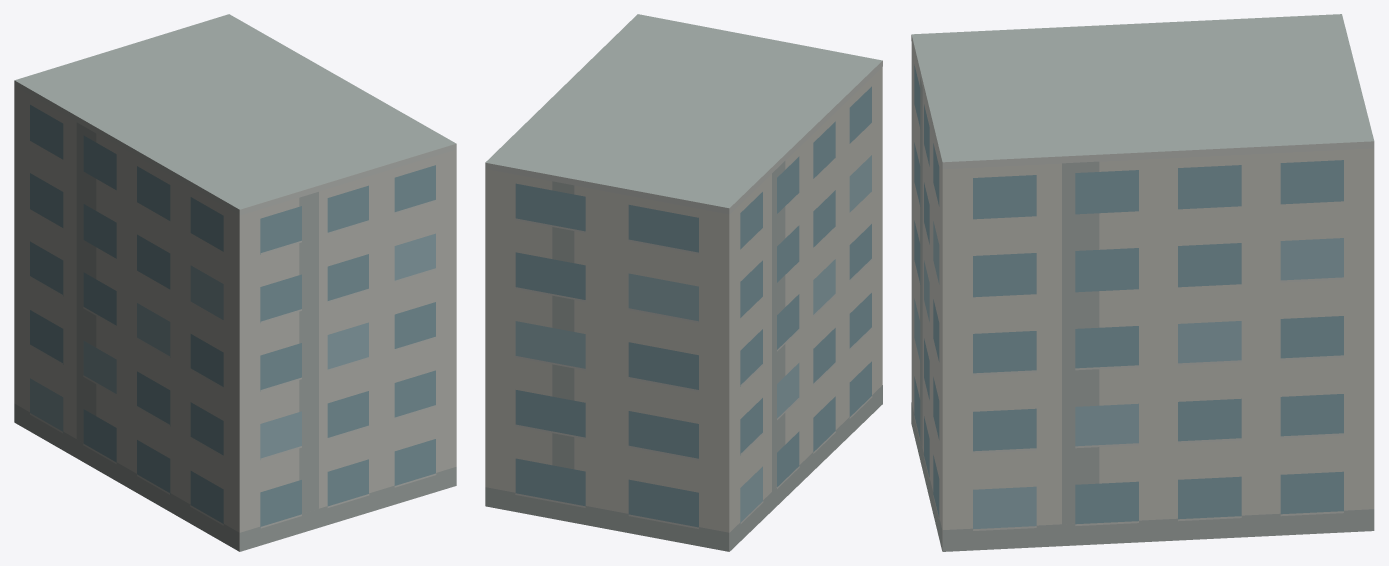
Rendered from survey-upis-32885174.glb.
The picture shows the model from 3 angles, left to right: view 1: azimuth 30°, elevation 25°; view 2: azimuth 150°, elevation 25°; view 3: azimuth 270°, elevation 25°; orthographic projection. The views are drawn at different scales.
Parts seen in each view (by area): view 1: survey-upis-32885174.tmp; view 2: survey-upis-32885174.tmp; view 3: survey-upis-32885174.tmp.
Part boxes in pixels (left/top/right/bottom): survey-upis-32885174.tmp: left=14, top=14, right=456, bottom=551; survey-upis-32885174.tmp: left=485, top=14, right=882, bottom=551; survey-upis-32885174.tmp: left=911, top=14, right=1374, bottom=551.
Bounding box in the file's own units: 11.23 × 13.75 × 14.81.
